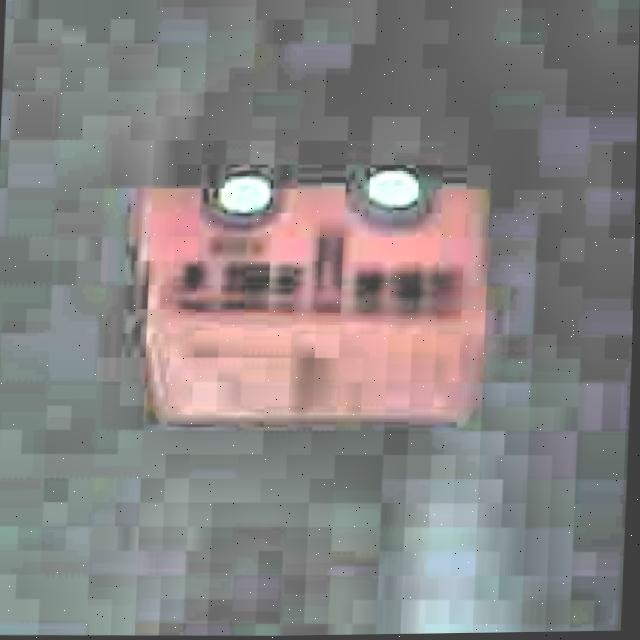bus: (116, 136, 505, 445)
